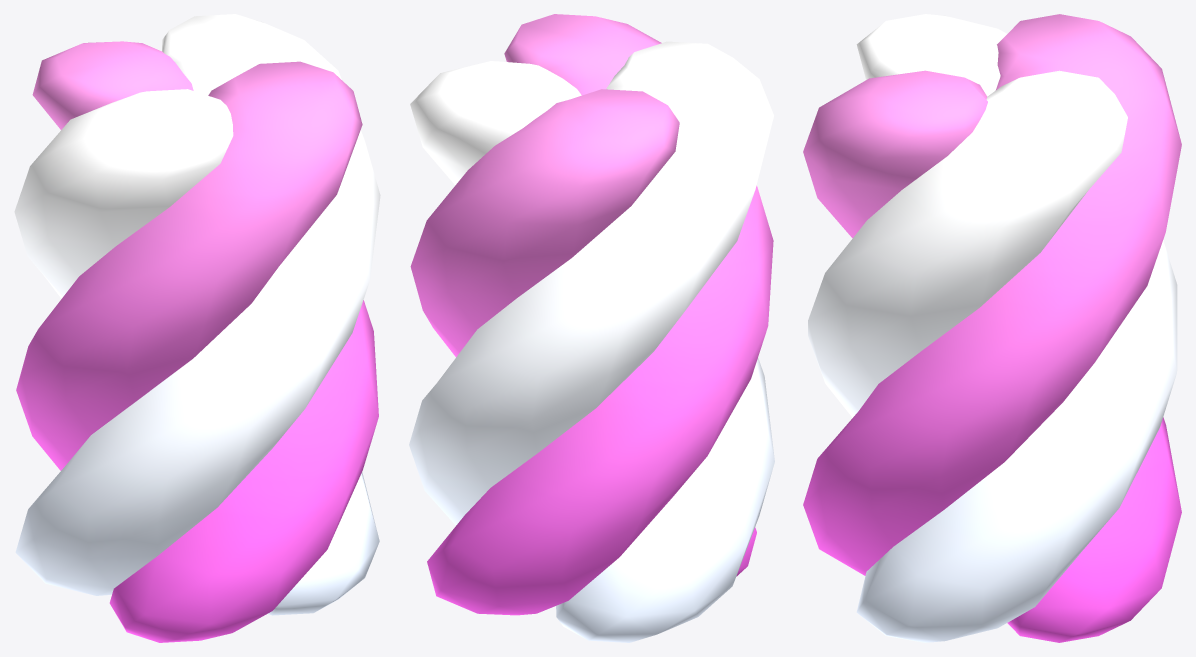
The model's file is Marshmallow_02.glb.
3 renders of one model, left to right at view 1: azimuth 30°, elevation 25°; view 2: azimuth 150°, elevation 25°; view 3: azimuth 270°, elevation 25°, orthographic. The views are drawn at different scales.
Visible parts, largest first — view 1: Marshmallow_02; view 2: Marshmallow_02; view 3: Marshmallow_02.
Boxes of the visible parts, <box> form: Marshmallow_02: <box>14,14,380,642</box>; Marshmallow_02: <box>409,14,774,642</box>; Marshmallow_02: <box>803,14,1181,642</box>.
Size of the model in its own units: 0.6508 by 0.9948 by 0.6506.
1 material, 1 textured.
